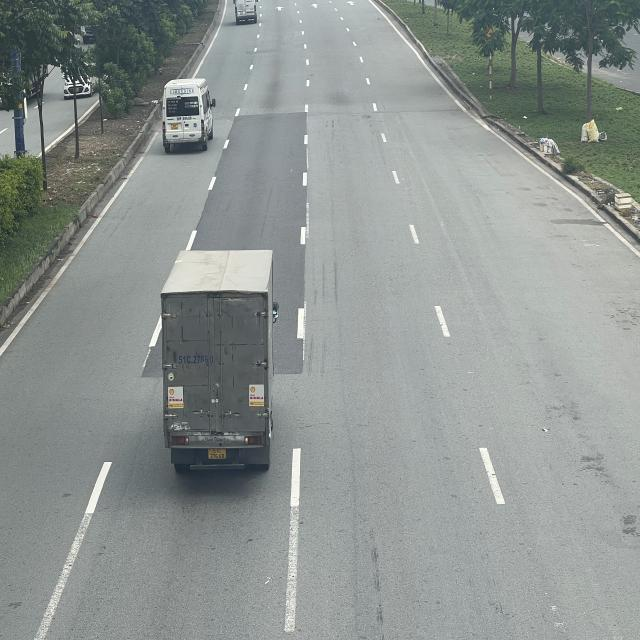truck: (160, 248, 278, 472)
van: (161, 77, 216, 148)
